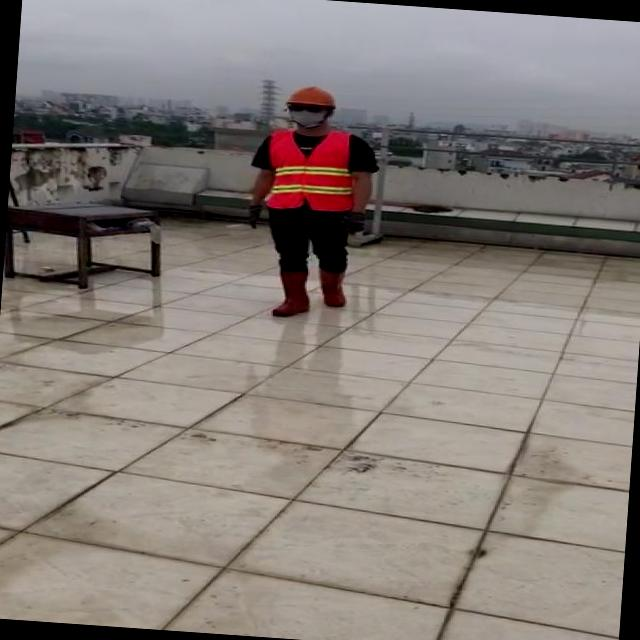boots: (272, 268, 312, 318), (316, 264, 352, 308)
gloves: (340, 203, 378, 246), (236, 198, 269, 236)
helmet: (285, 82, 338, 108)
vest: (265, 123, 360, 214)
